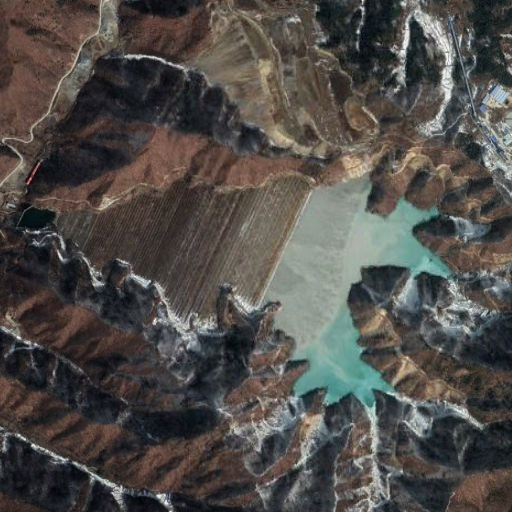tp: (57, 171, 451, 407)
